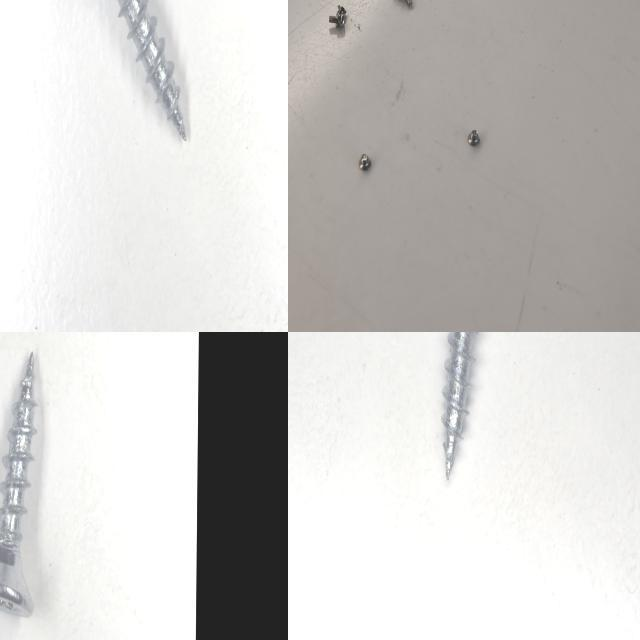Screw: (117, 0, 186, 139), (0, 352, 36, 616), (442, 332, 476, 477), (356, 152, 374, 172), (464, 129, 481, 147), (326, 14, 346, 29), (334, 3, 348, 17), (399, 0, 414, 10)
